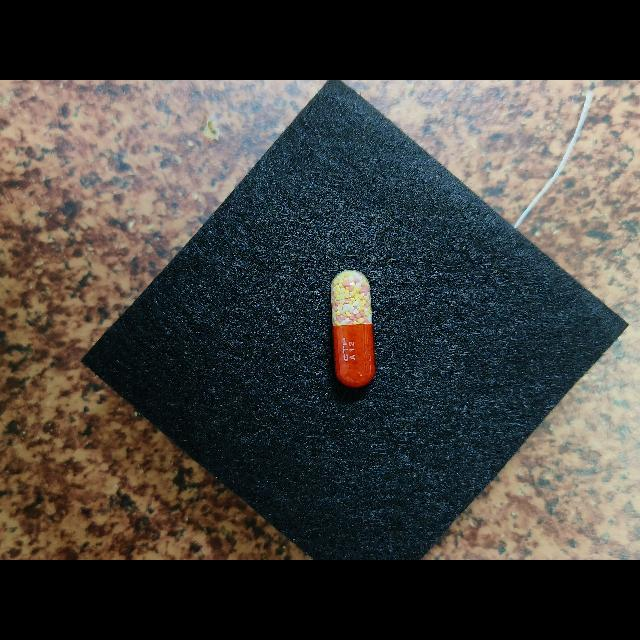Intact Capsule: (331, 270, 376, 388)
